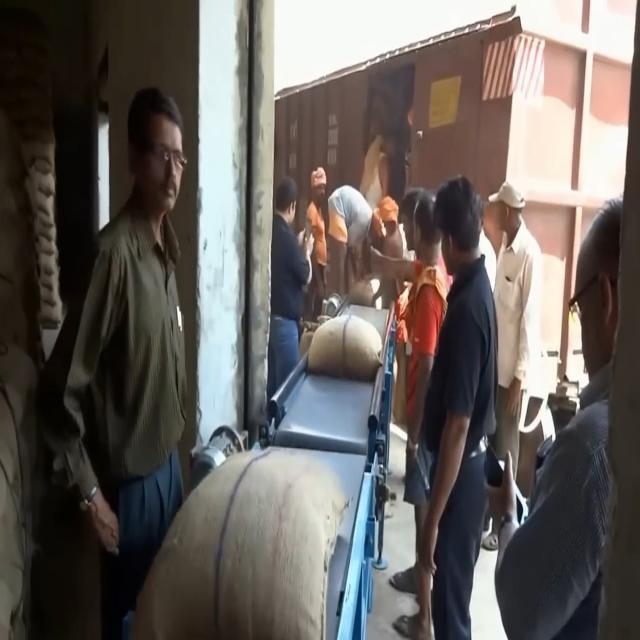gunny_bag: (118, 442, 352, 640), (297, 308, 388, 383)
